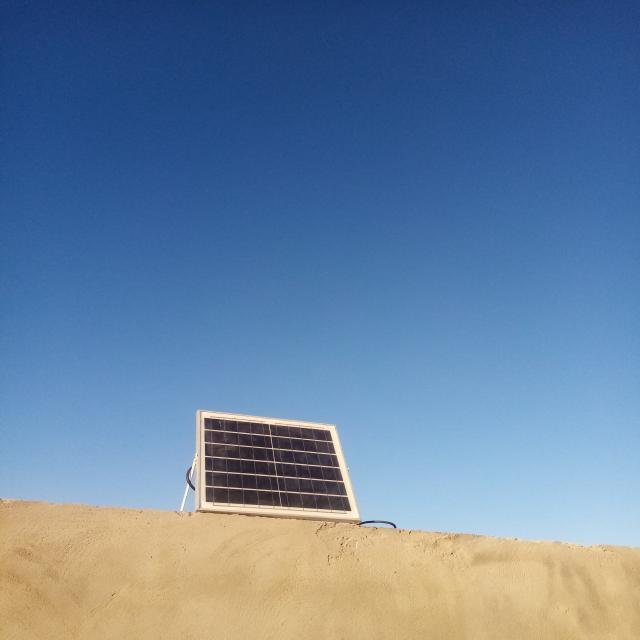faulty: (199, 411, 361, 520)
